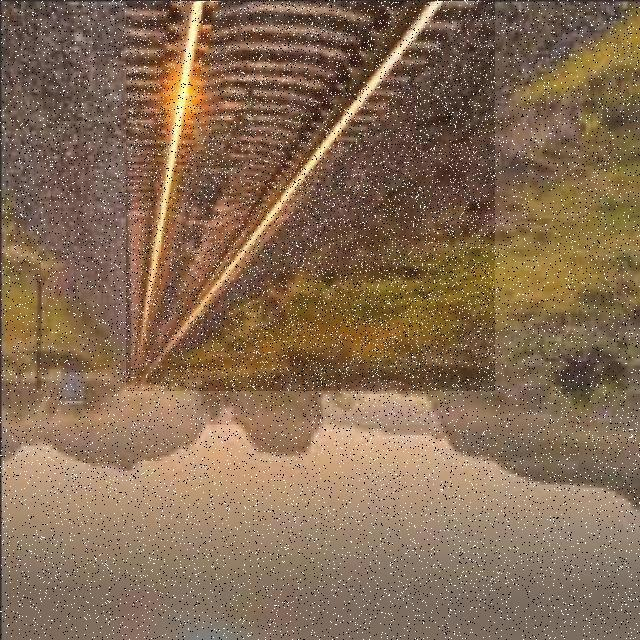rail: (127, 3, 496, 392)
